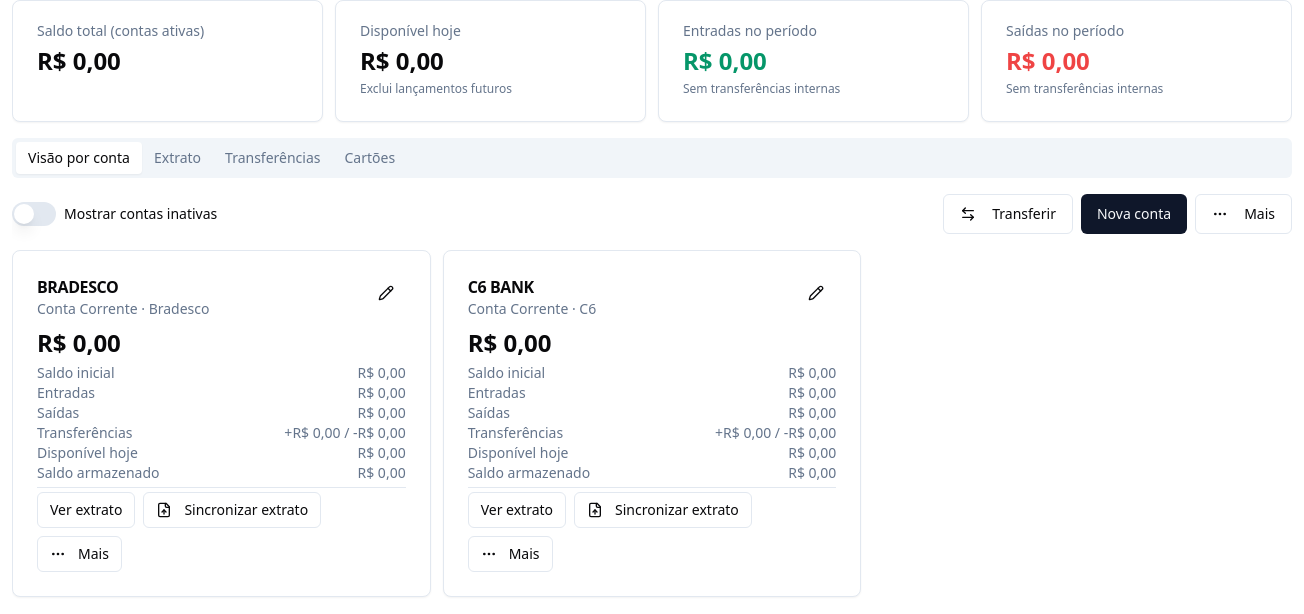
Contas > ação Sincronizar extrato › abre a aba de extrato já filtrada pela conta selecionada
The width and height of the screenshot is (1304, 614).
Click the button with test id "view-statement-acc-2": coordinates (517, 510) [468,492,566,528]
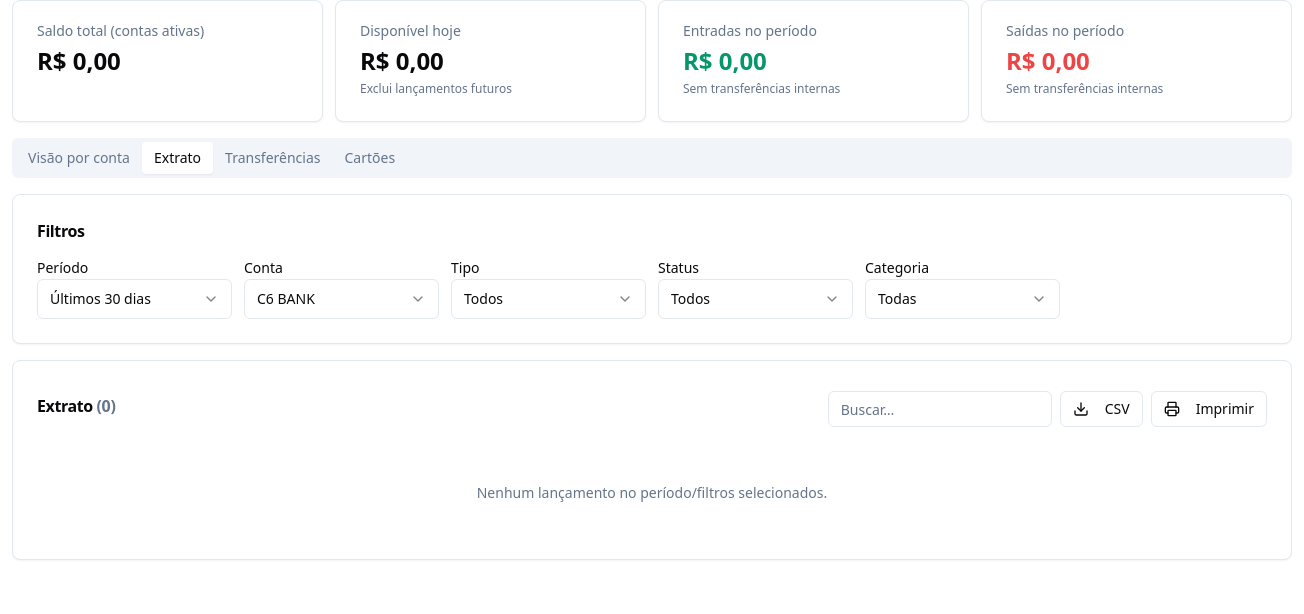
expect the tab "Extrato" has attribute data-state="active": met, box [142,142,213,174]
